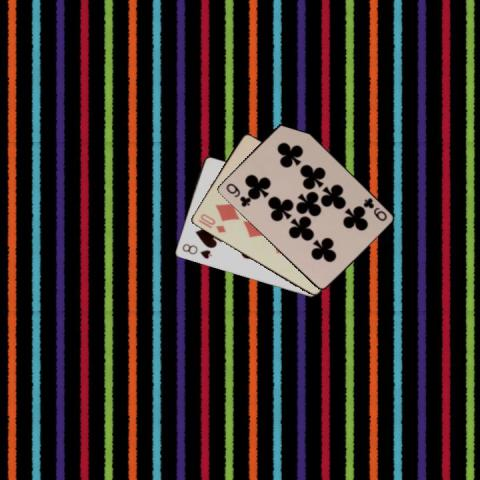10d: (194, 211, 226, 234)
8s: (179, 241, 213, 260)
9c: (223, 180, 251, 209), (360, 194, 388, 222)
